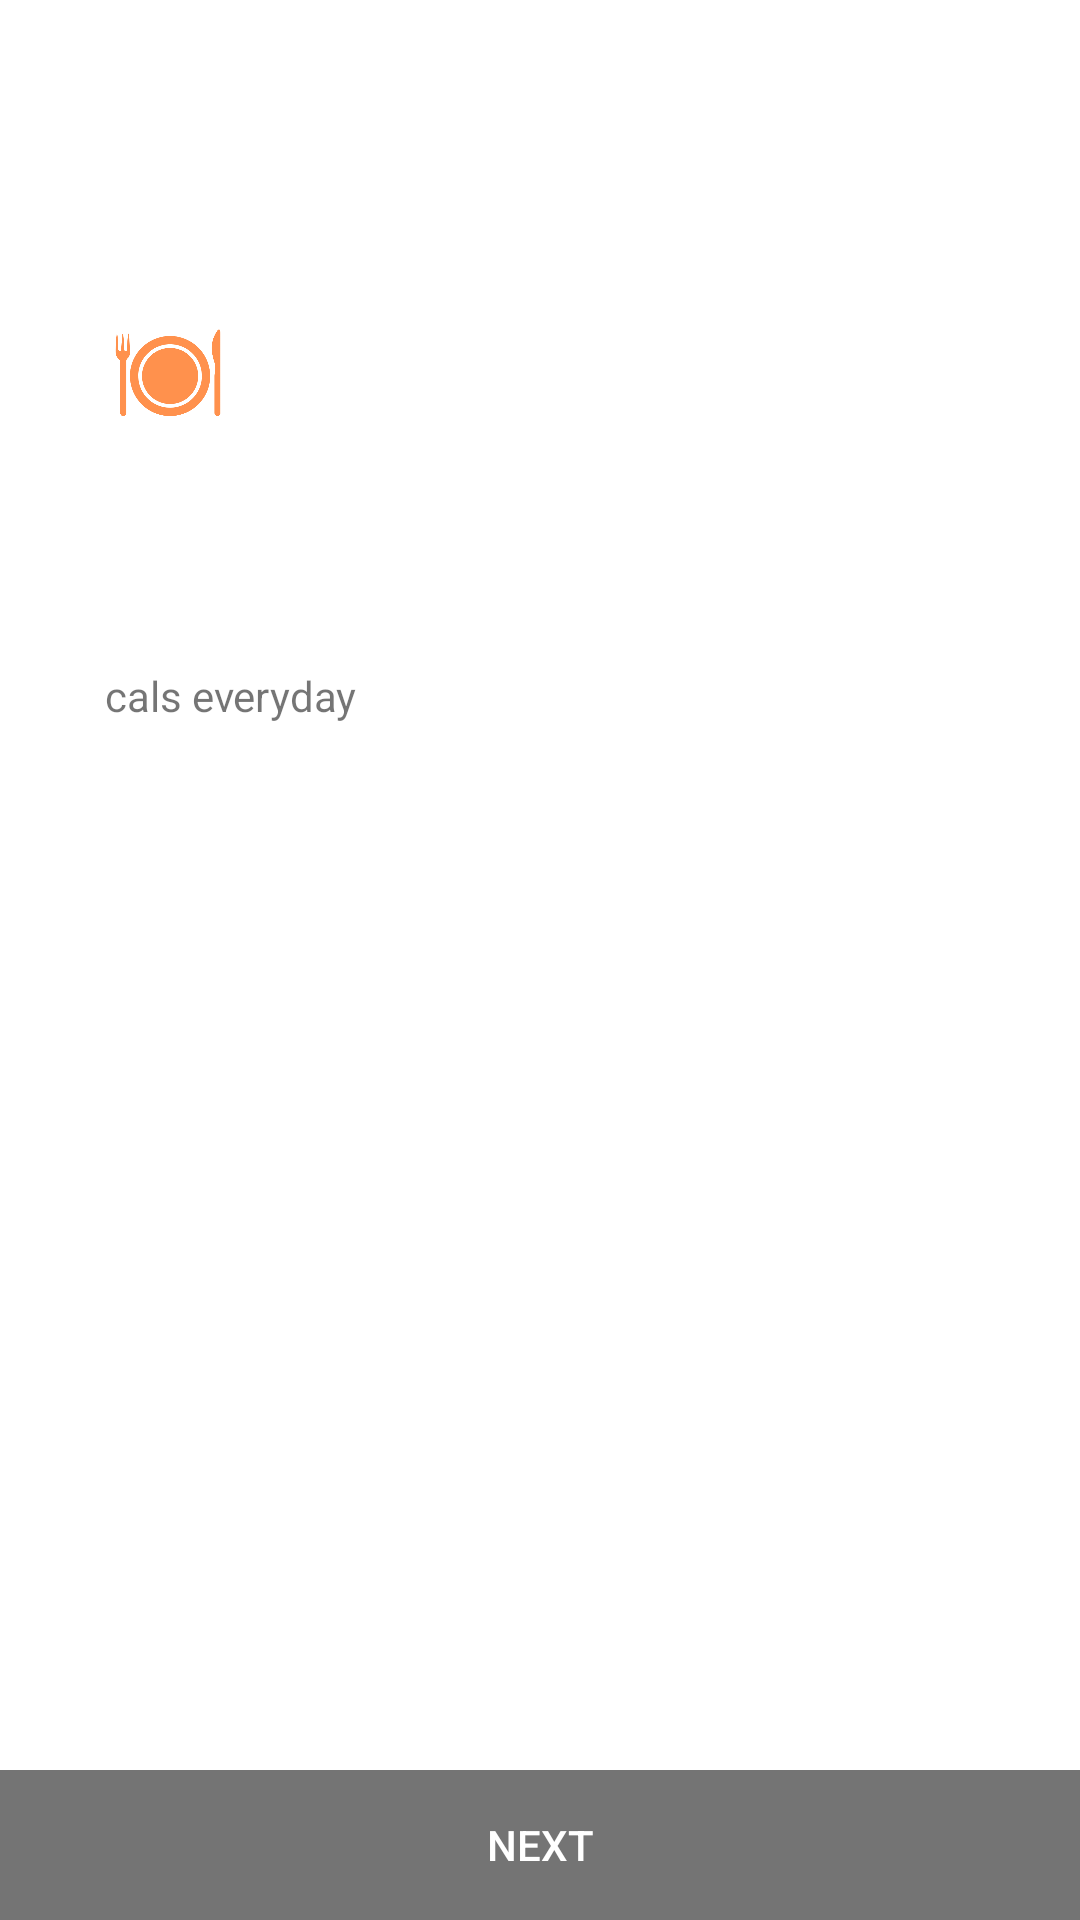

Locate icon controls on the screen. Image size 1080*1920, boxes as rect(x1, y1, x2, y2).
platefork: rect(115, 329, 221, 416)
